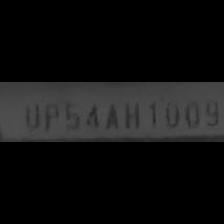0: (160, 98, 180, 130), (180, 98, 202, 127)
1: (143, 98, 159, 130)
4: (80, 100, 100, 130)
5: (60, 98, 80, 132)
9: (200, 96, 222, 127)
A: (102, 99, 120, 130)
P: (41, 100, 59, 132)
U: (18, 102, 42, 131)
